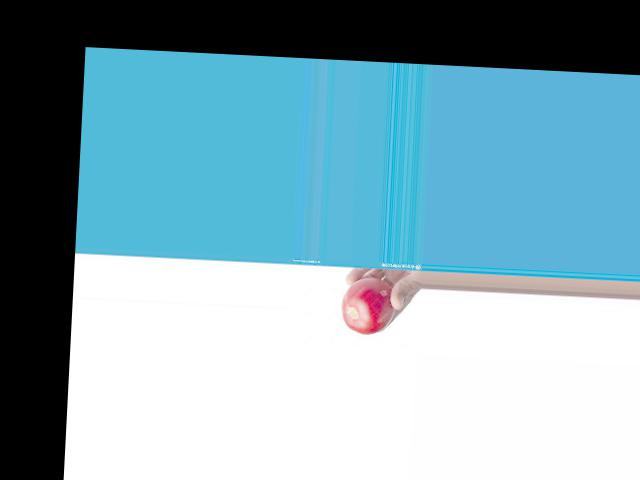tomato: (340, 275, 396, 335)
